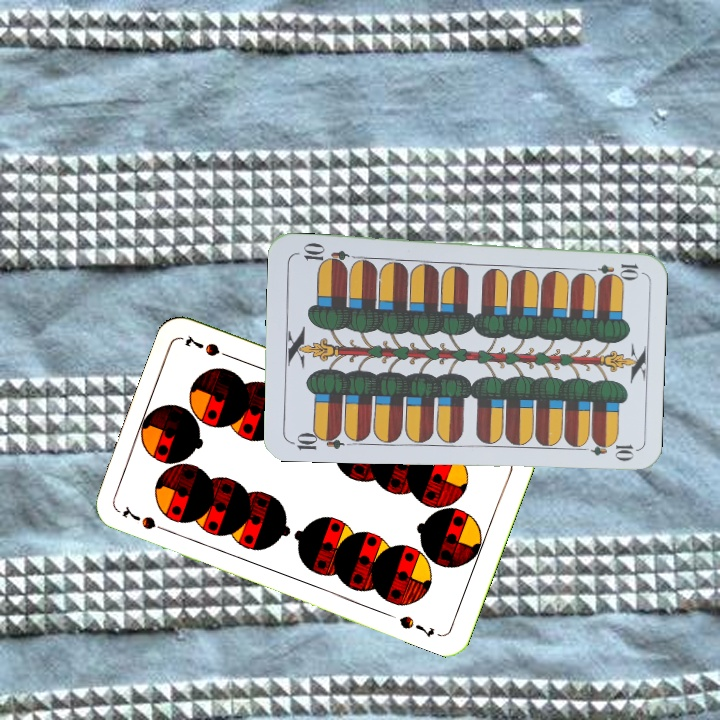E10: (286, 427, 345, 453), (582, 260, 641, 278)
S7: (118, 502, 173, 536)
